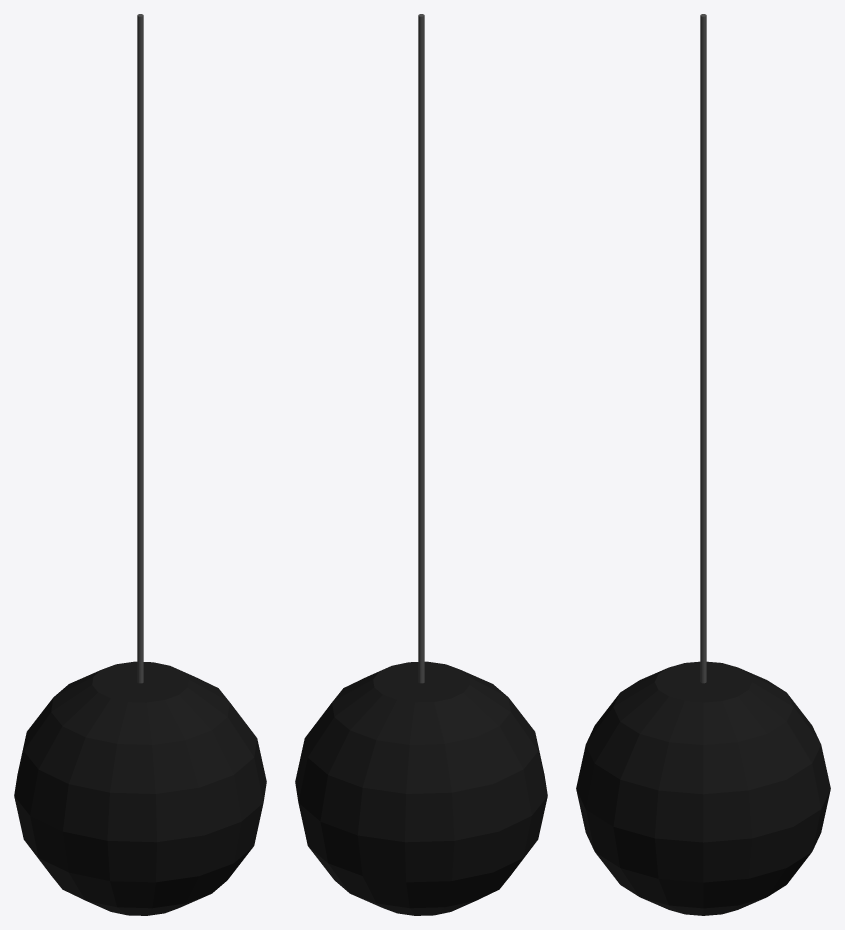
Rendered from wreckingBall.fbx.
3 renders of one model, left to right at view 1: azimuth 30°, elevation 25°; view 2: azimuth 150°, elevation 25°; view 3: azimuth 270°, elevation 25°, orthographic.
Visible parts, largest first — view 1: WreckingBall; view 2: WreckingBall; view 3: WreckingBall.
Boxes of the visible parts, x1,y1,x2,y2 form: WreckingBall: (14,14,266,915); WreckingBall: (295,14,547,915); WreckingBall: (576,14,830,915).
Bounding box in the file's own units: 1000 × 3848 × 1000.
